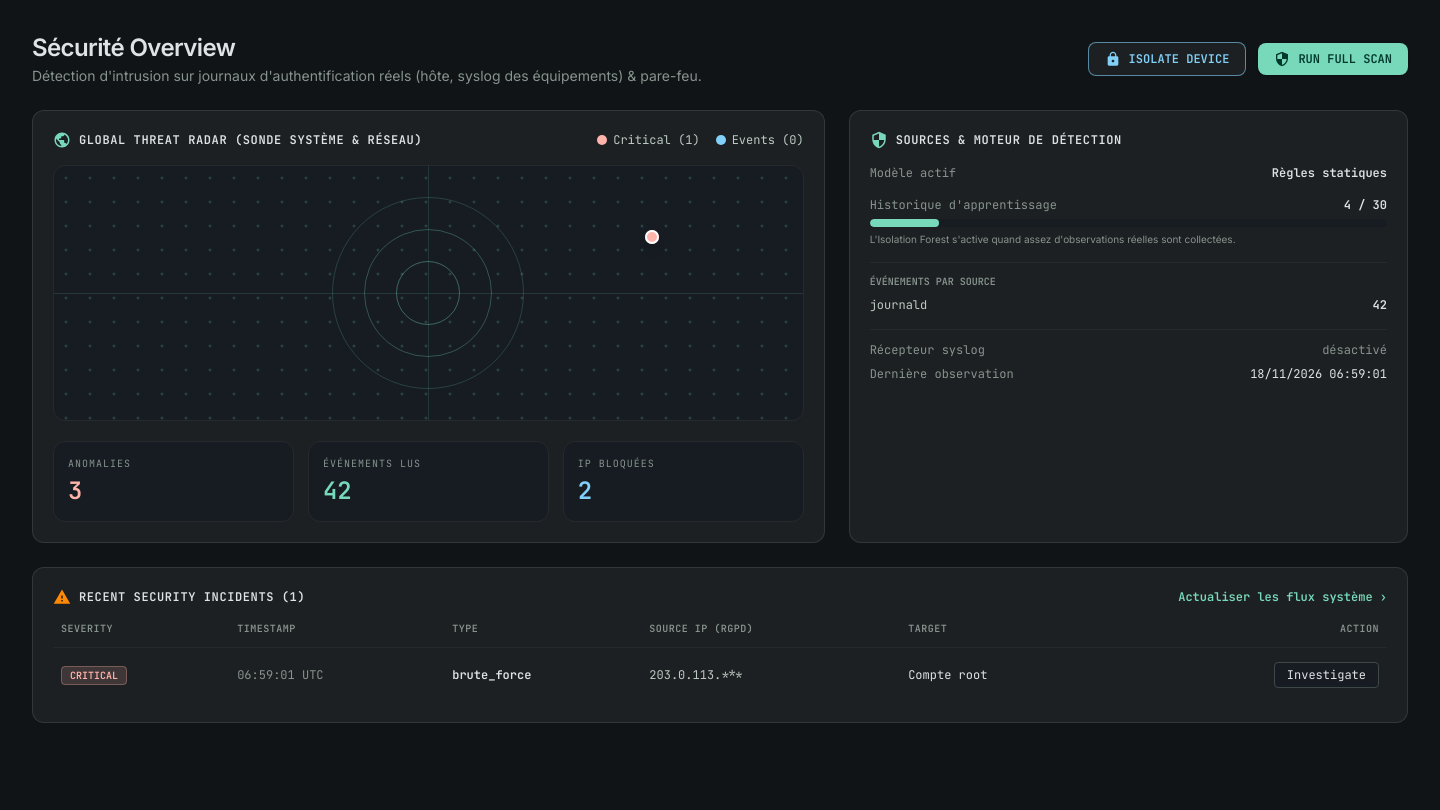
SecuritePage : données réelles uniquement › blocage refusé par le serveur : le motif exact est affiché, l'incident reste non bloqué
Click the text "brute_force": (492, 675) [452, 648, 649, 702]
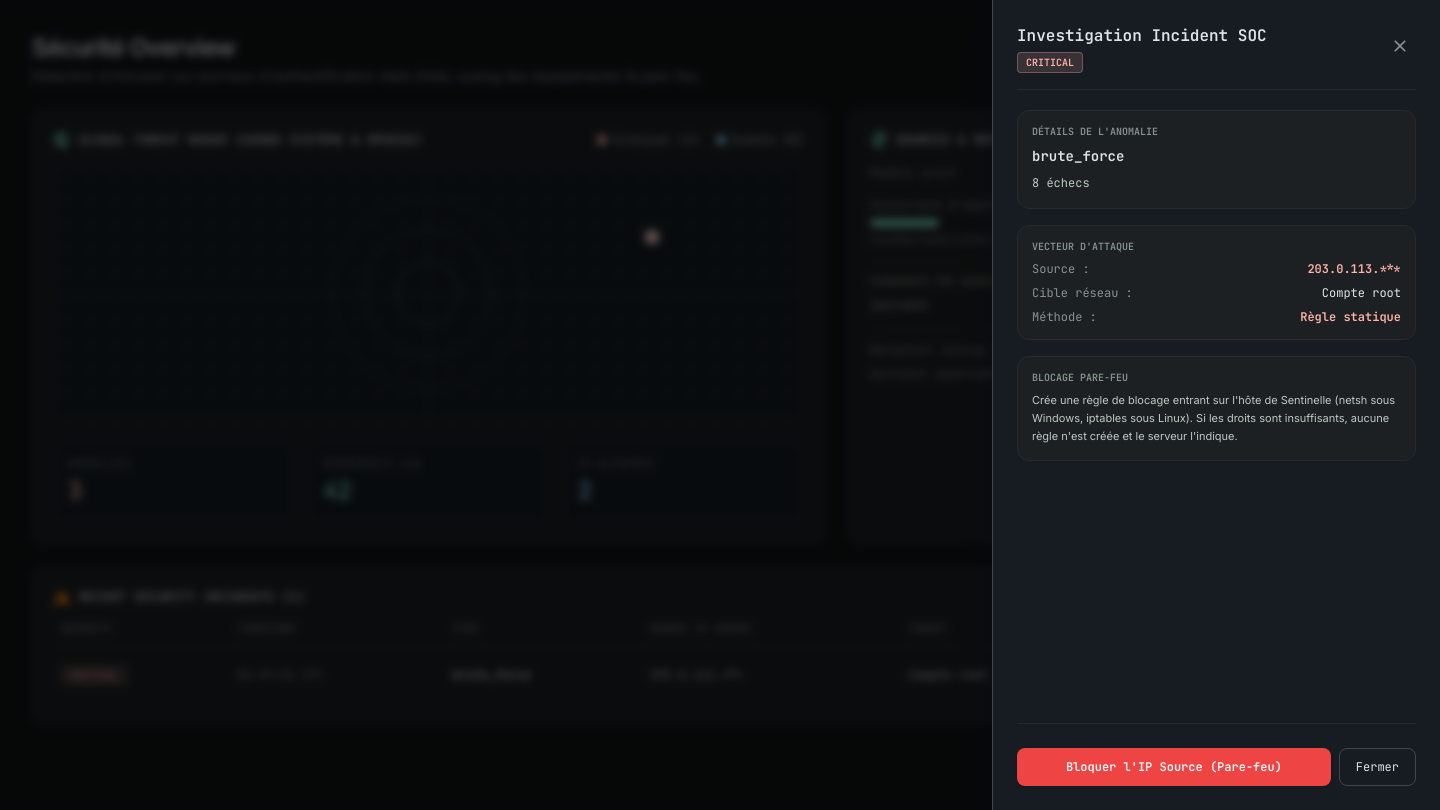
Click the button "Bloquer l'IP Source (Pare-feu)": (1174, 767) [1017, 748, 1331, 786]
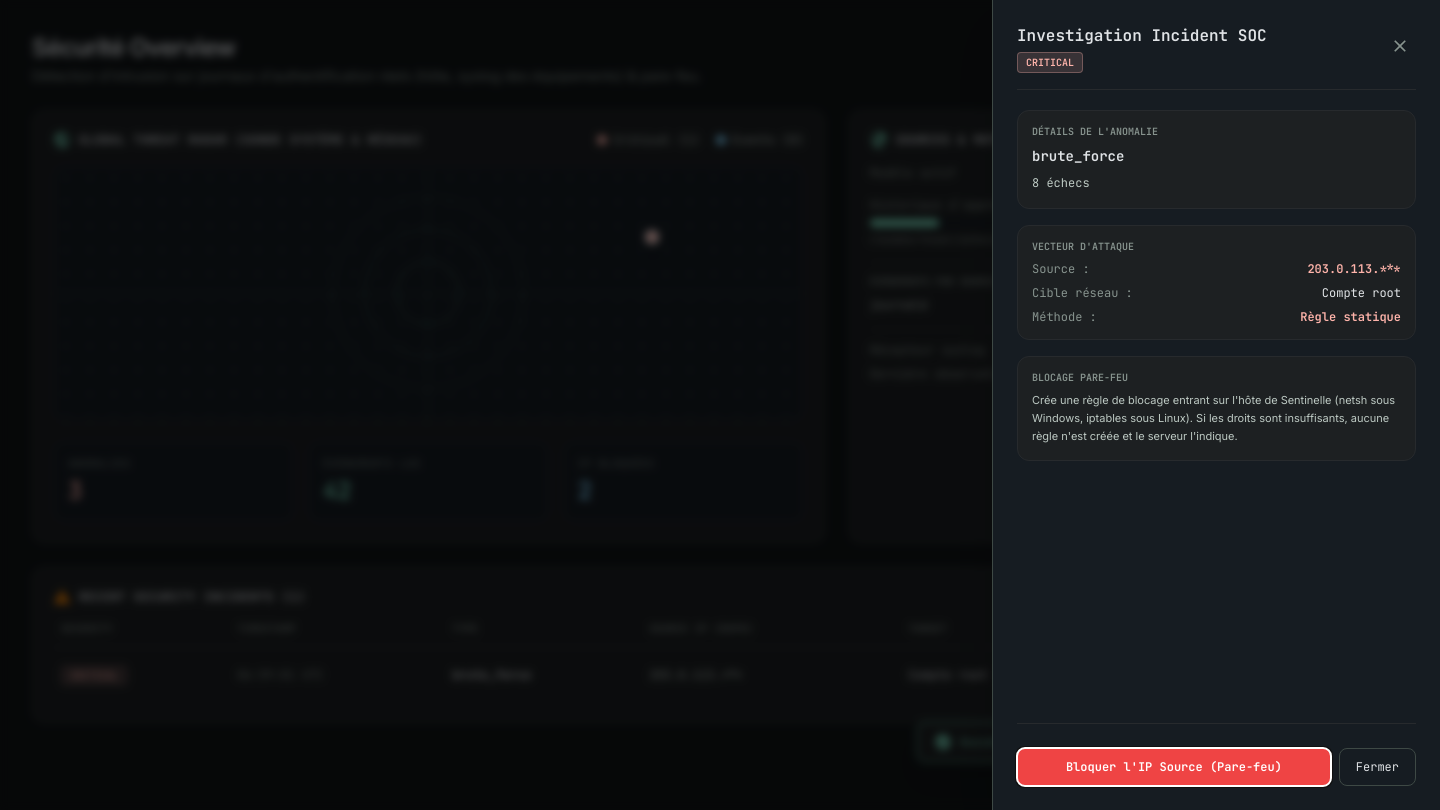
Now the button "Bloquer l'IP Source (Pare-feu)" is shown, box [1017, 748, 1331, 786]
Now the text "droits administrateur requis" is shown, box [960, 734, 1399, 750]
